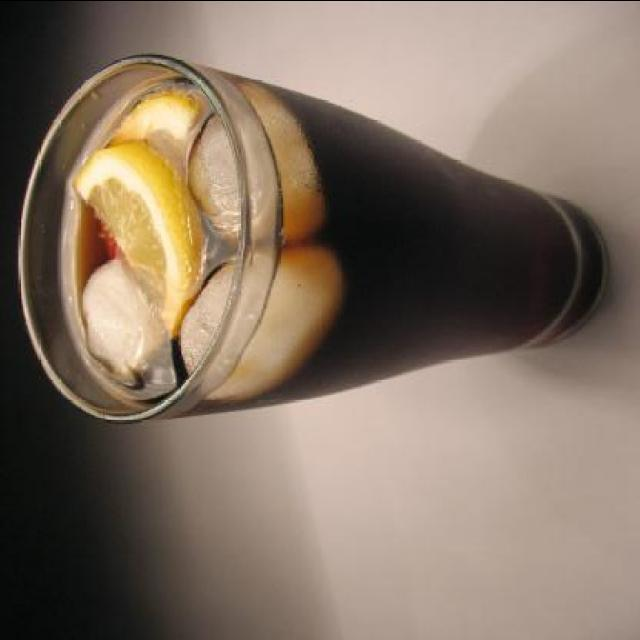Coke: (13, 52, 616, 426)
